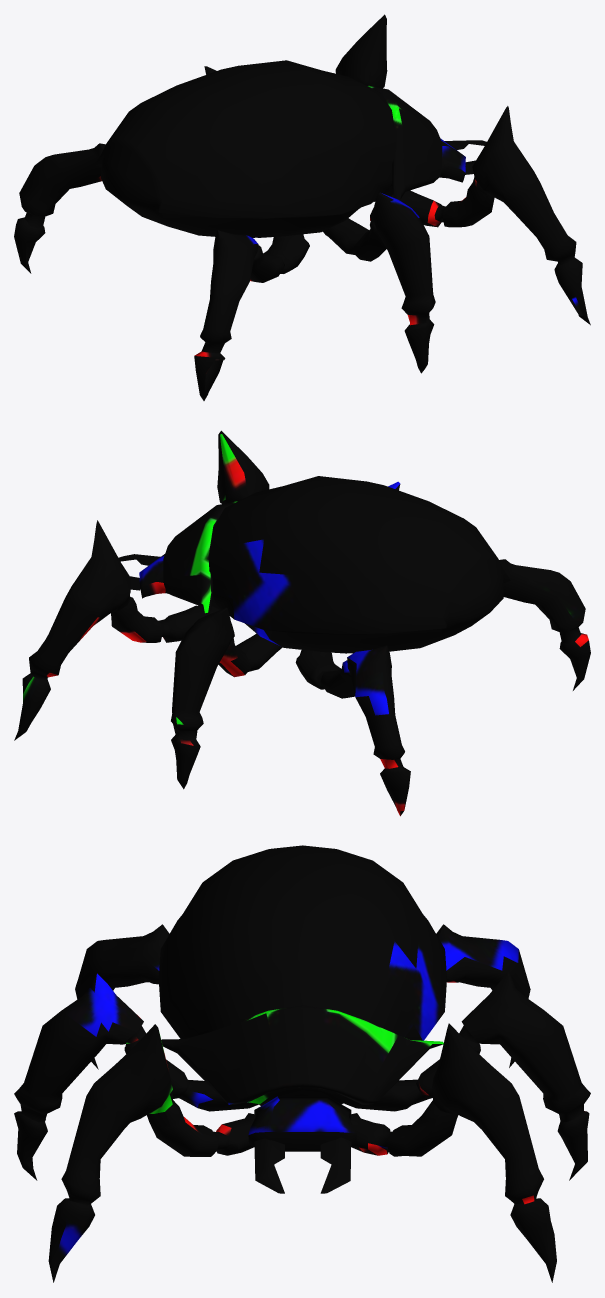
The picture shows the model from 3 angles, top to bottom: view 1: azimuth 30°, elevation 25°; view 2: azimuth 150°, elevation 25°; view 3: azimuth 270°, elevation 25°; orthographic projection. The views are drawn at different scales.
Parts seen in each view (by area): view 1: SM_VFX_Beetle_LowPoly_LOD0; view 2: SM_VFX_Beetle_LowPoly_LOD0; view 3: SM_VFX_Beetle_LowPoly_LOD0.
Part boxes in pixels (left/top/right/bottom): SM_VFX_Beetle_LowPoly_LOD0: left=14, top=14, right=590, bottom=400; SM_VFX_Beetle_LowPoly_LOD0: left=14, top=430, right=590, bottom=816; SM_VFX_Beetle_LowPoly_LOD0: left=14, top=845, right=590, bottom=1282.
Size of the model in its own units: 0.2335 by 0.1252 by 0.2409.
1 material, 1 textured.
